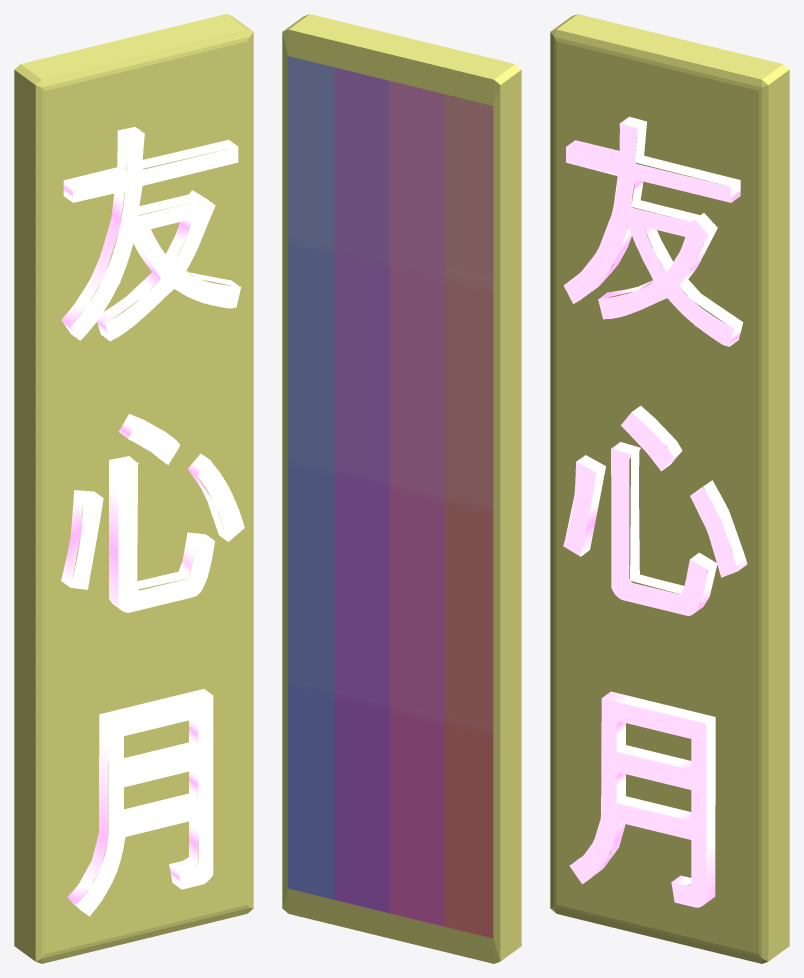
File: white-red.glb
3 views of the same model, side by side, from view 1: azimuth 30°, elevation 25°; view 2: azimuth 150°, elevation 25°; view 3: azimuth 330°, elevation 25° (orthographic).
Visible parts, largest first — view 1: Cube.011; view 2: Cube.011; view 3: Cube.011.
Part boxes in pixels (left/top/right/bottom): Cube.011: left=14, top=14, right=253, bottom=963; Cube.011: left=282, top=14, right=521, bottom=963; Cube.011: left=550, top=14, right=789, bottom=963.
Bounding box in the file's own units: 1.29 × 5 × 0.3368.
2 materials, 1 textured.
